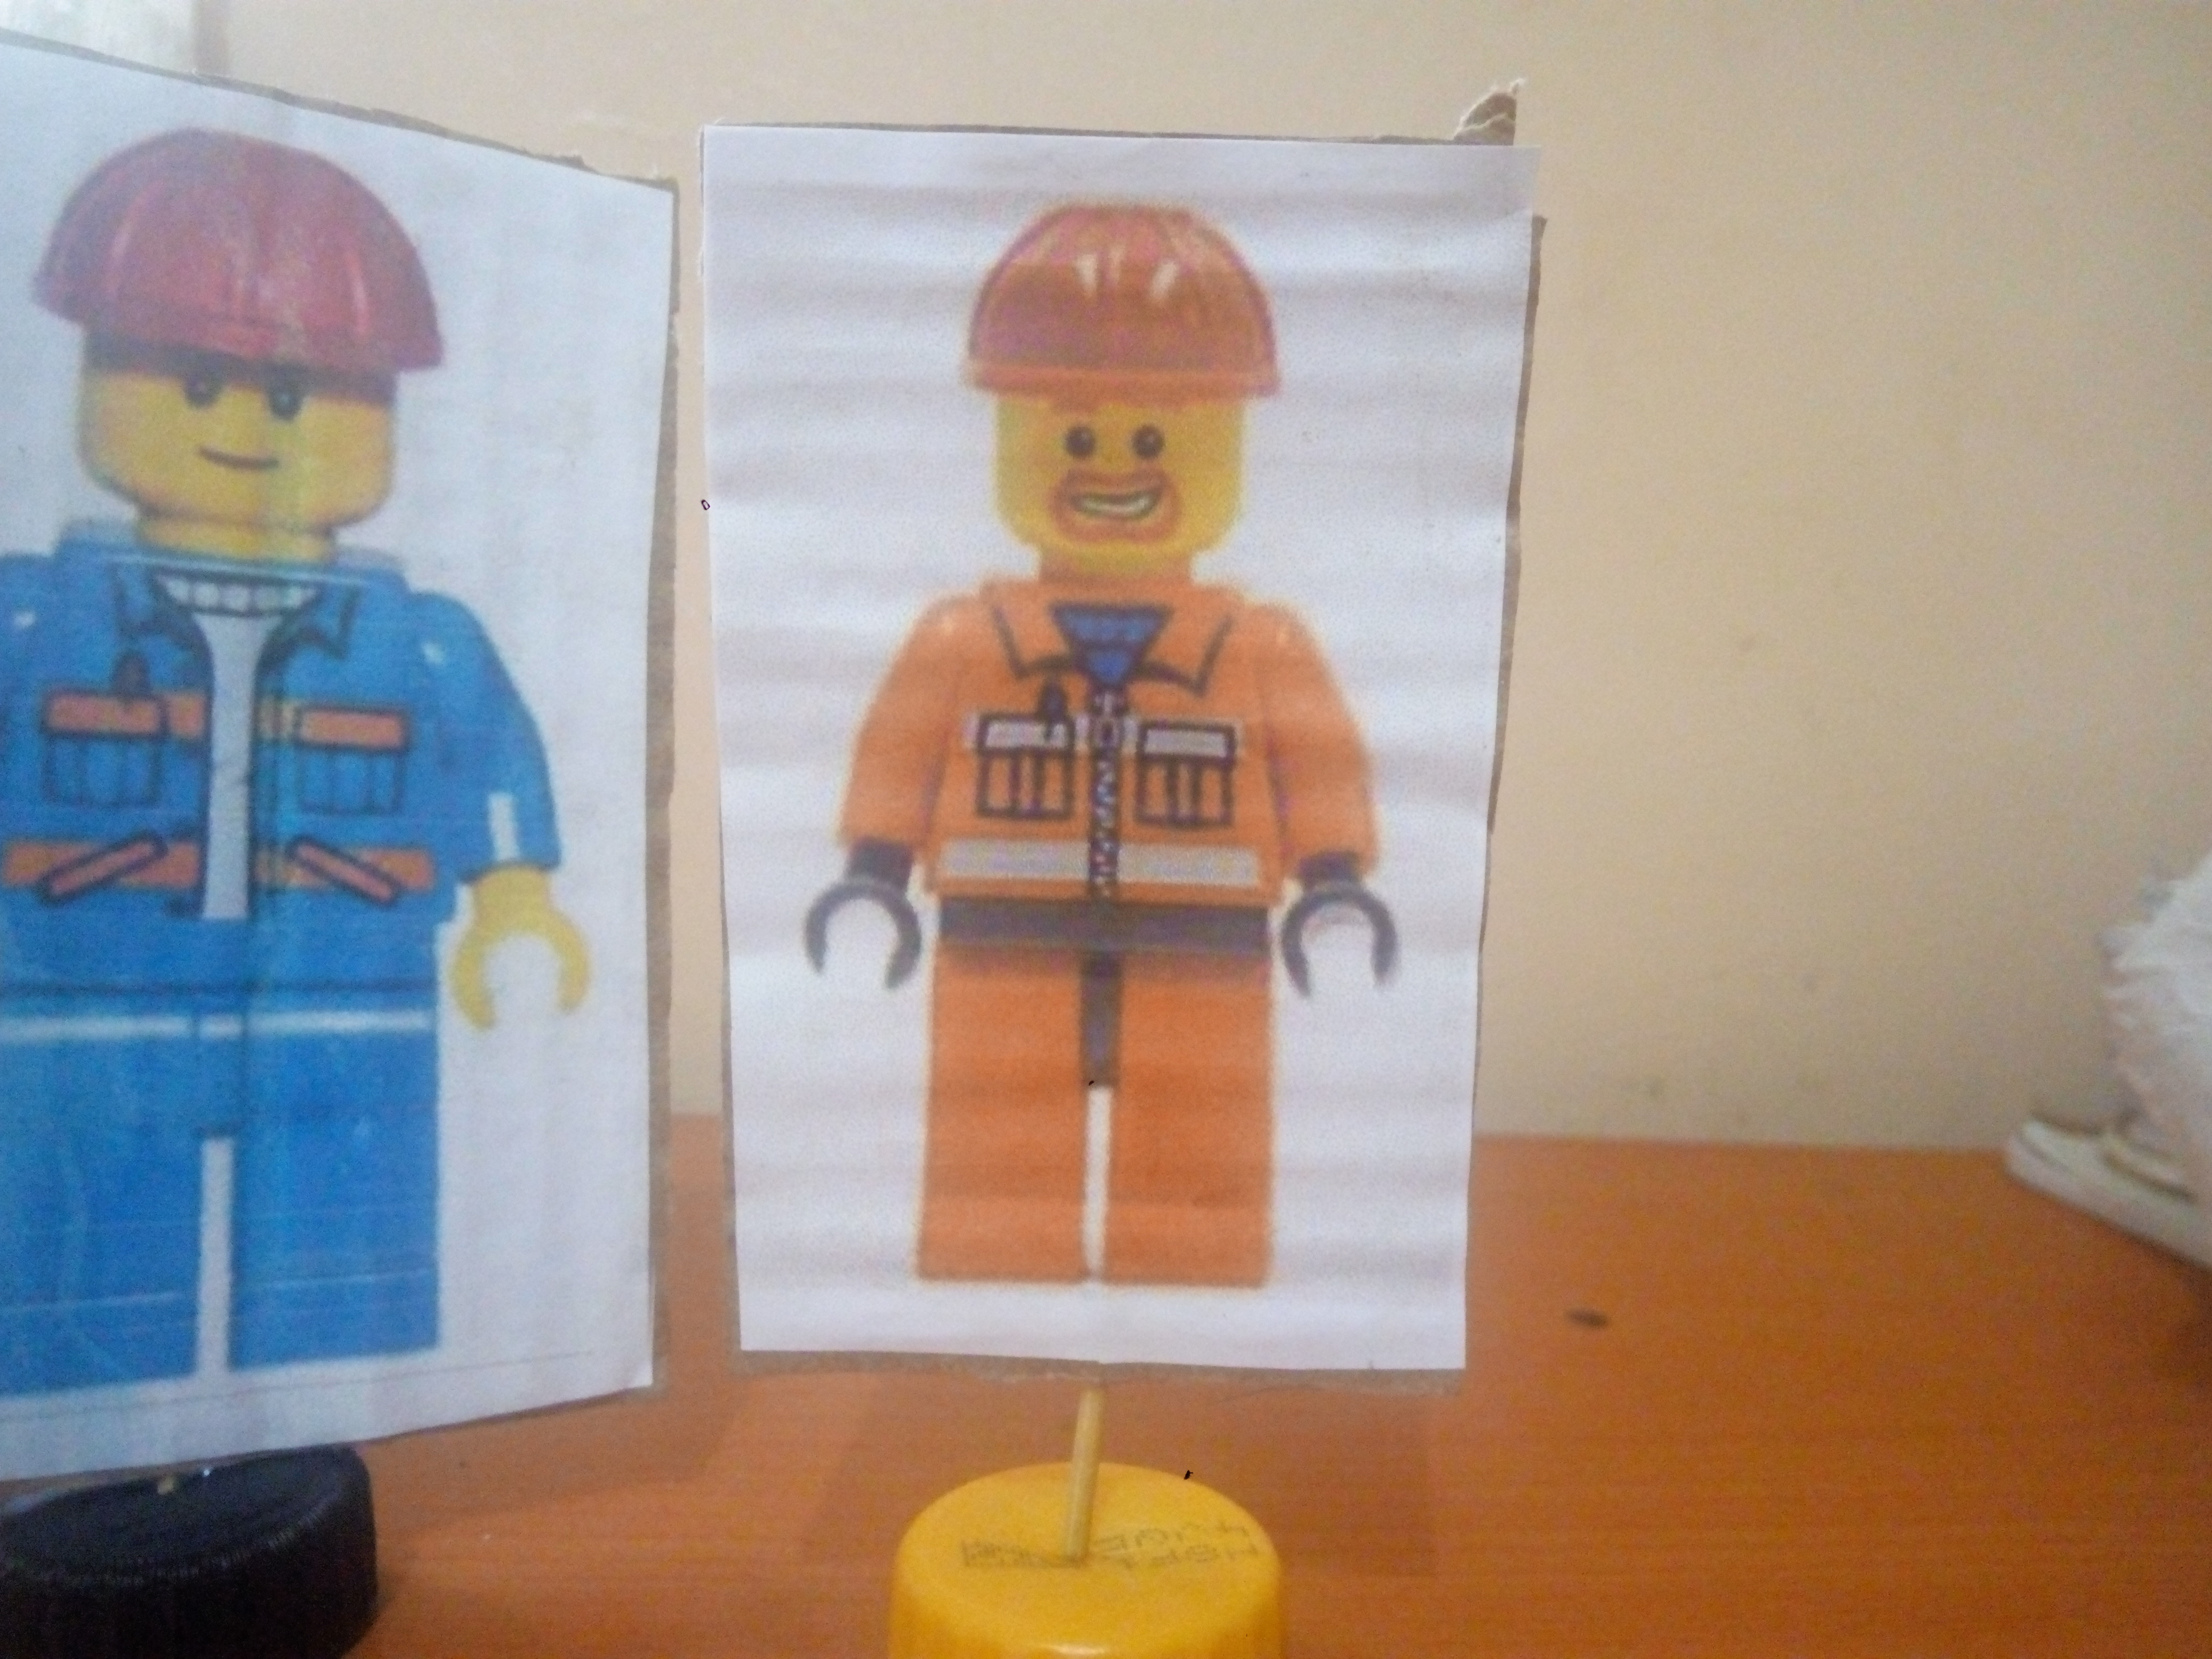pedestrian: (8, 88, 606, 1398), (774, 160, 1433, 1303)
